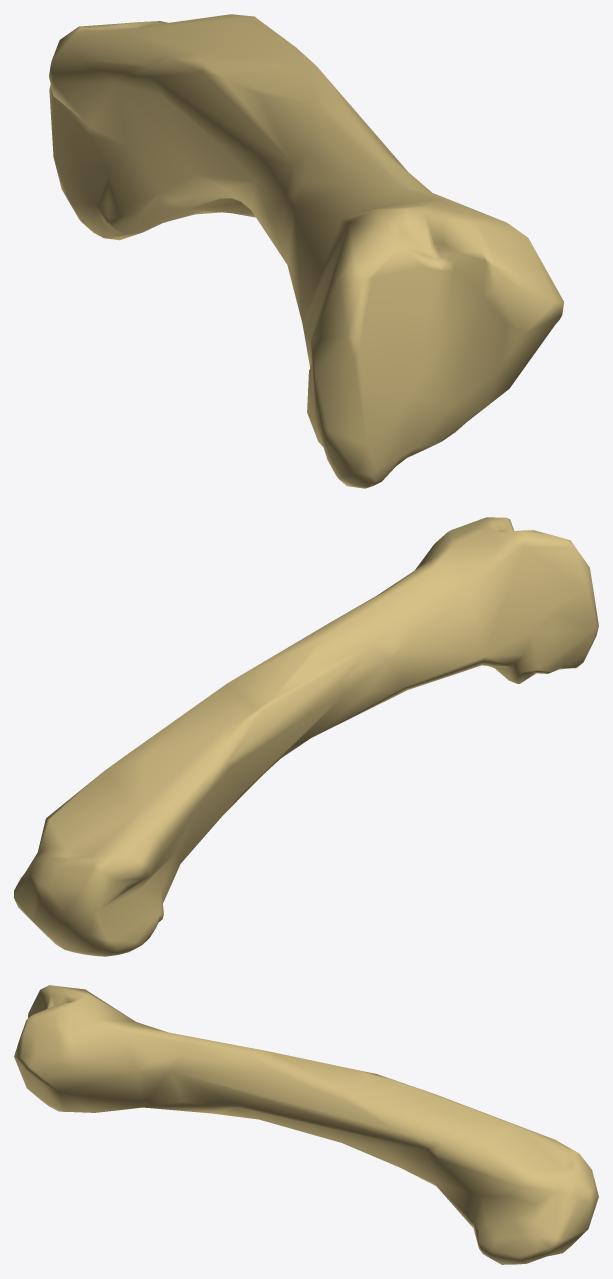
The picture shows the model from 3 angles, top to bottom: view 1: azimuth 30°, elevation 25°; view 2: azimuth 150°, elevation 25°; view 3: azimuth 270°, elevation 25°; orthographic projection. The views are drawn at different scales.
Parts seen in each view (by area): view 1: 左侧第二掌骨; view 2: 左侧第二掌骨; view 3: 左侧第二掌骨.
Part boxes in pixels (left/top/right/bottom): 左侧第二掌骨: left=49, top=14, right=563, bottom=488; 左侧第二掌骨: left=14, top=517, right=598, bottom=956; 左侧第二掌骨: left=14, top=985, right=598, bottom=1264.
Size of the model in its own units: 0.0473 by 0.0393 by 0.1039.
